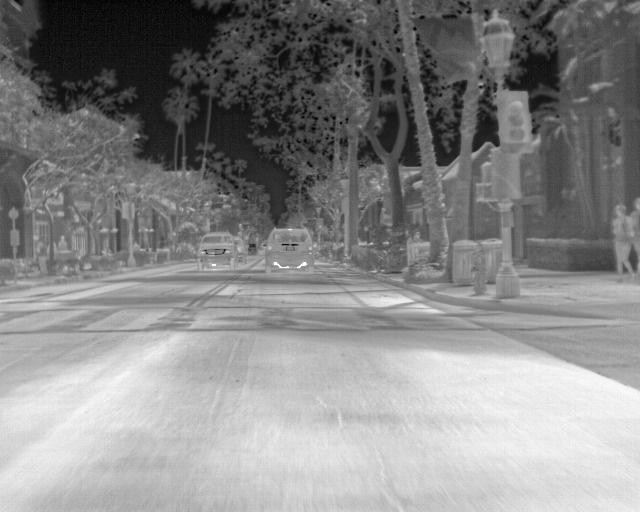bicycle: (262, 225, 316, 274), (195, 232, 235, 269)
empty: (609, 203, 637, 281), (54, 234, 69, 252)
